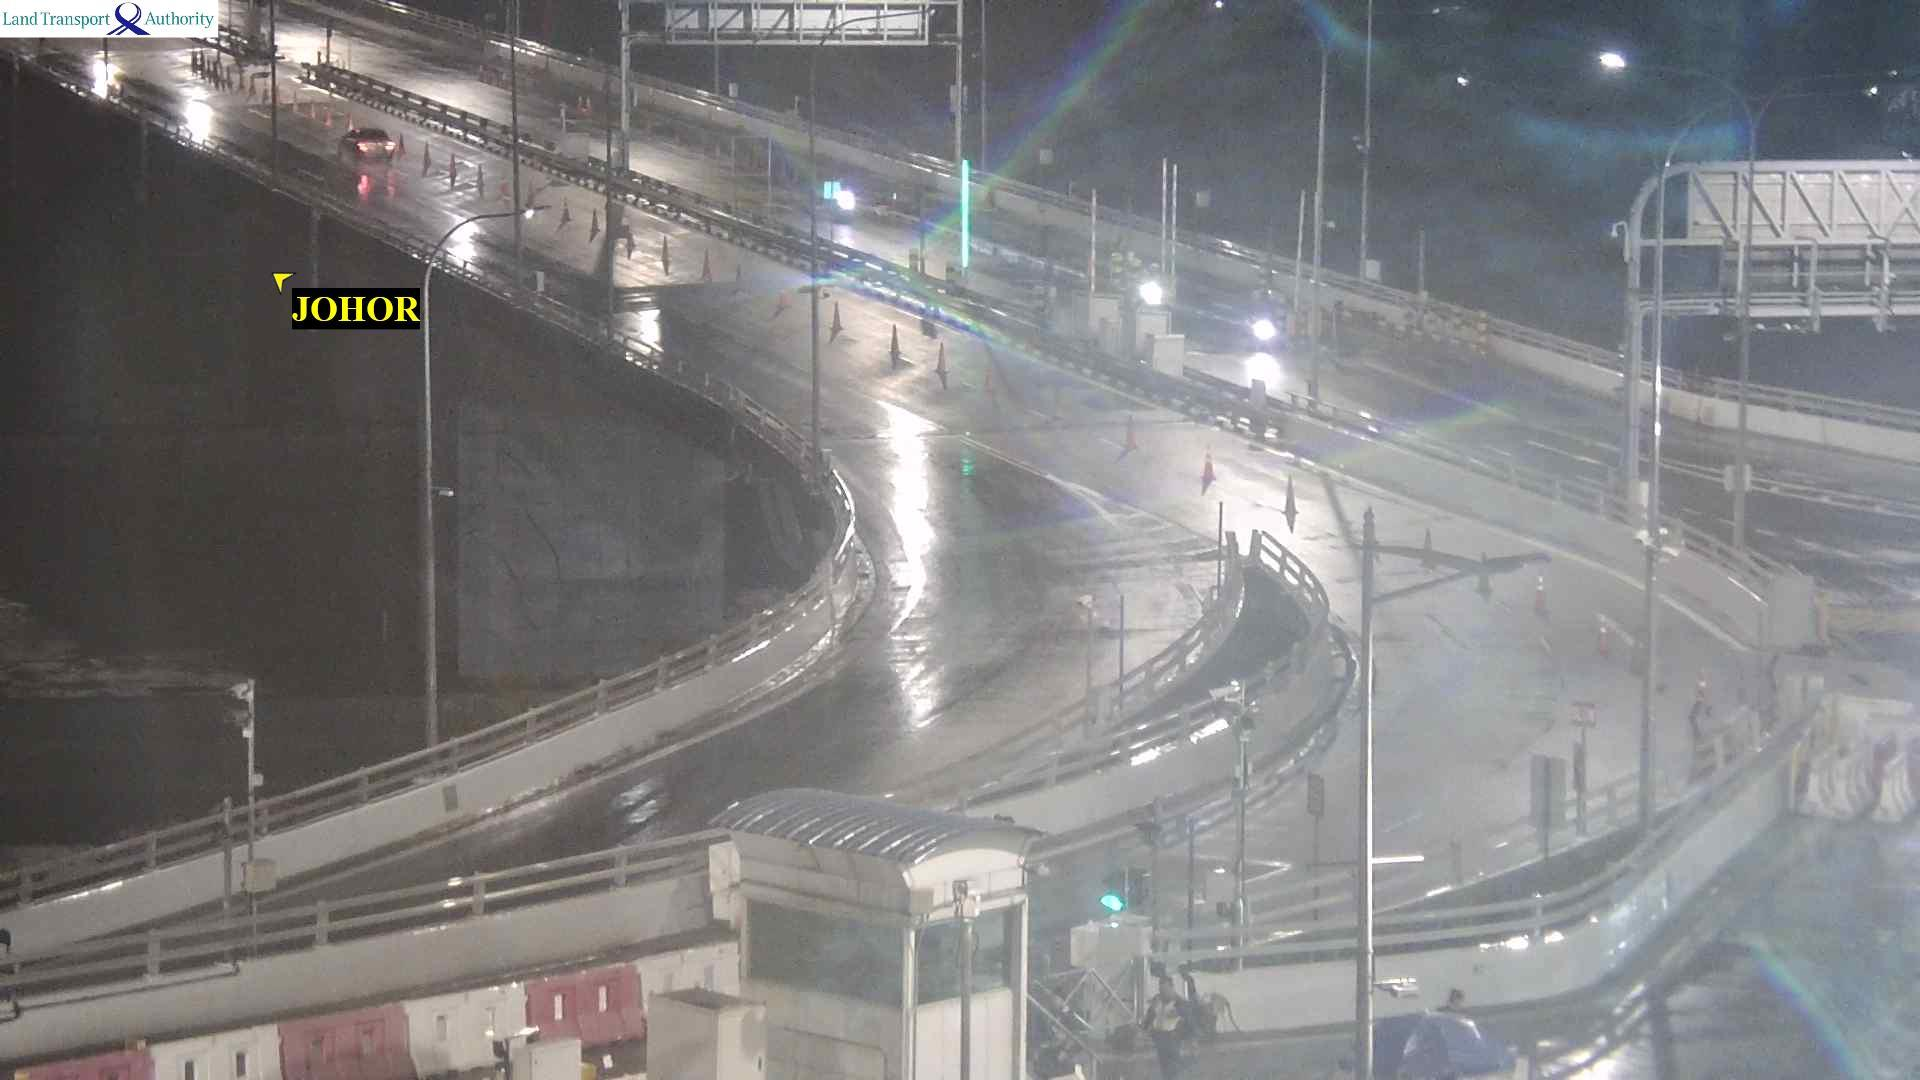vehicle-secondlink-johor: (337, 122, 392, 163)
vehicle-secondlink-singapore: (1222, 297, 1285, 357)
